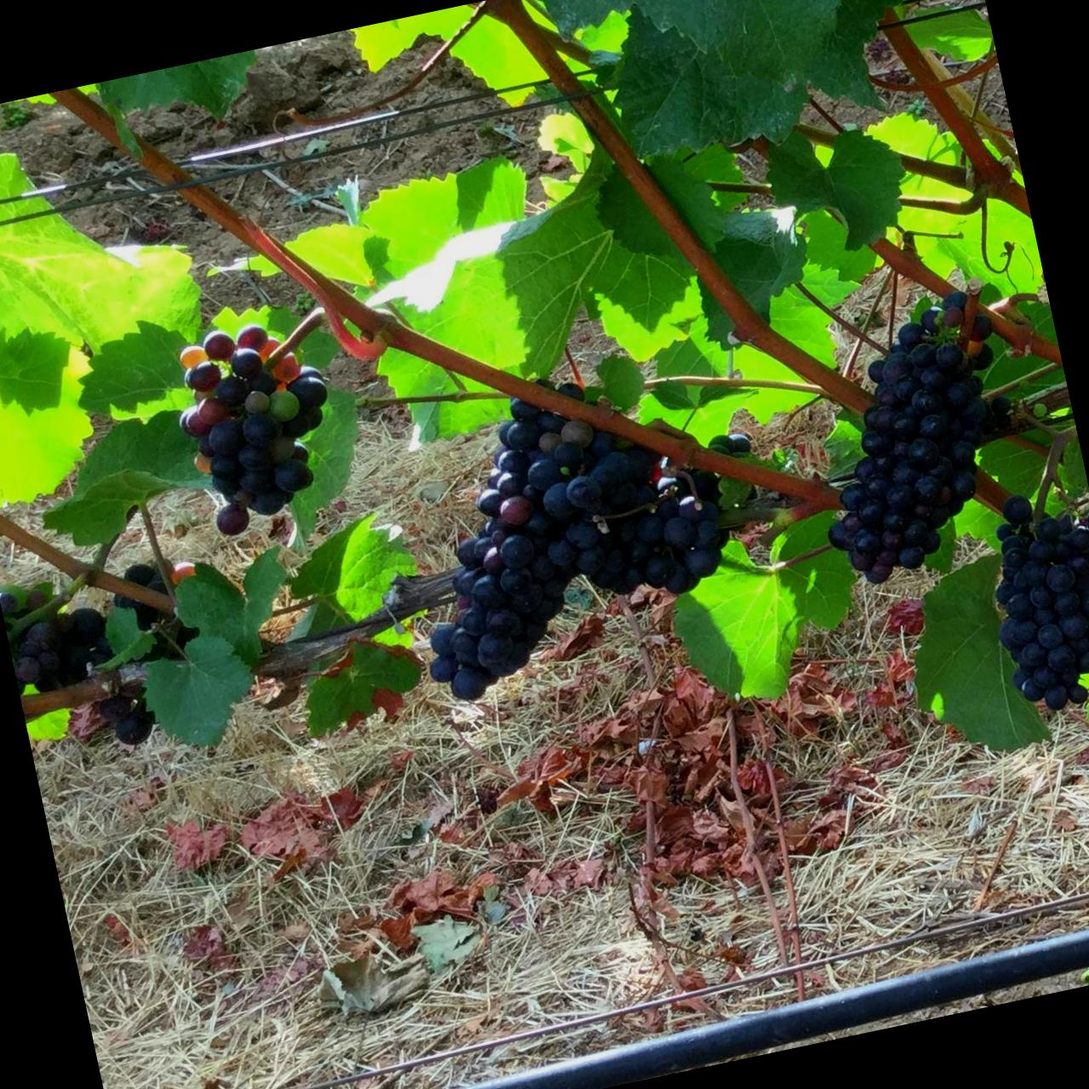Grape Ripe: (382, 366, 756, 704), (376, 353, 644, 709), (781, 285, 1079, 604), (0, 549, 281, 844), (127, 279, 372, 551), (551, 412, 755, 607), (963, 471, 1089, 747)
